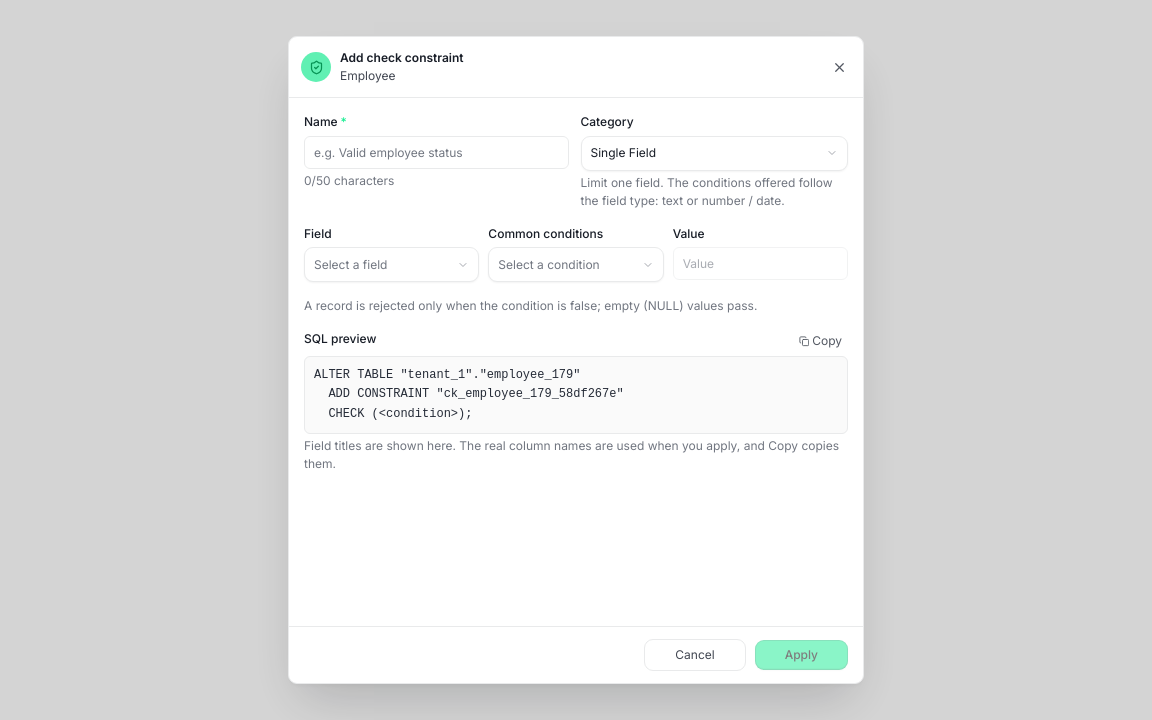
Test case: CheckConstraintFormModal › drops the chosen condition when another field type does not offer it
Click the button "Select a field": (392, 264) top-left (304, 247), bottom-right (479, 282)
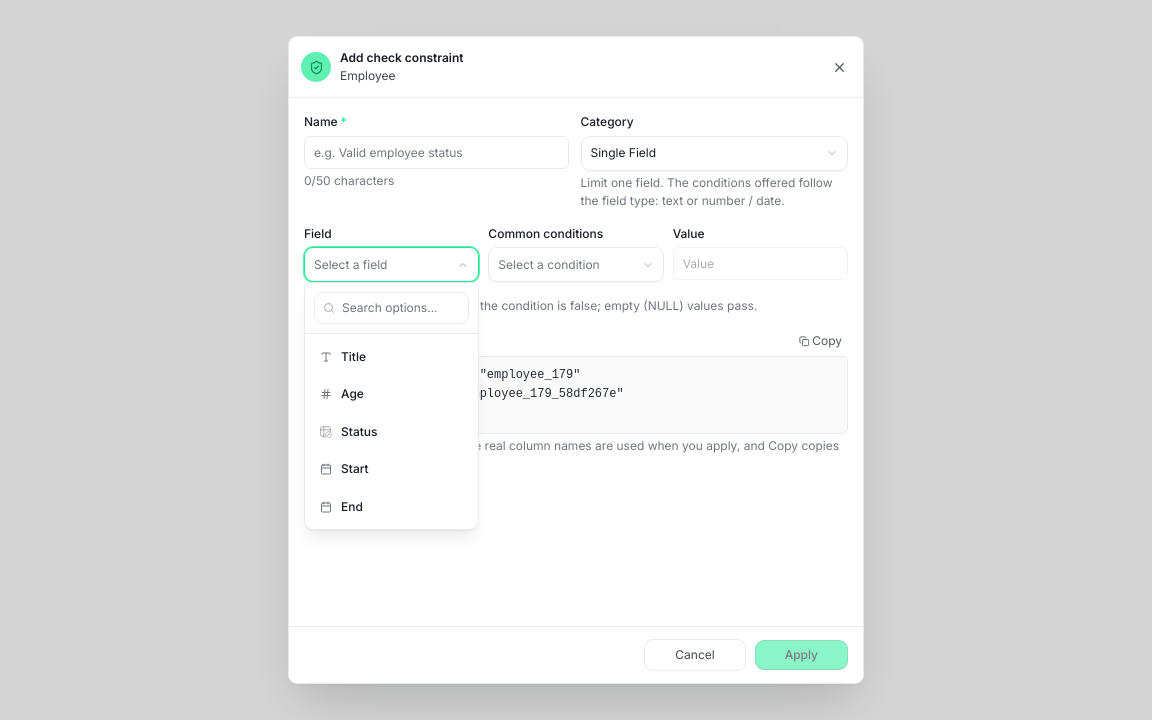
Click the text "Status": (359, 431) top-left (341, 424), bottom-right (378, 438)
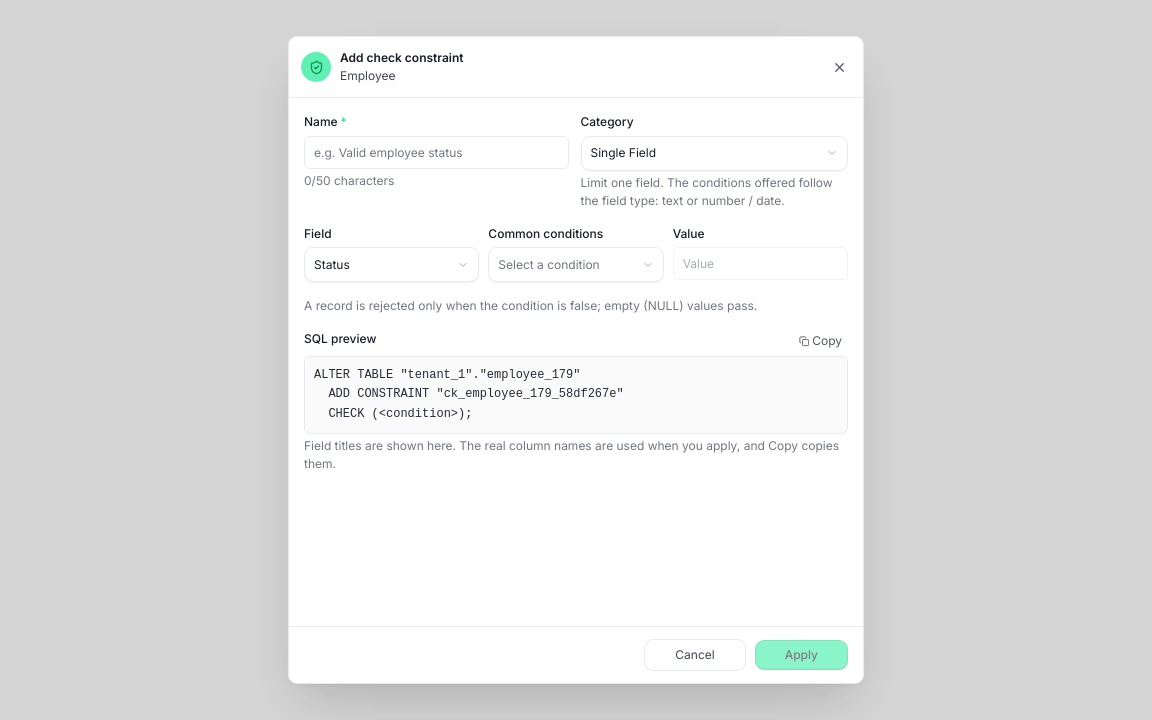
Click the button "Select a condition": (576, 264) top-left (488, 247), bottom-right (664, 282)
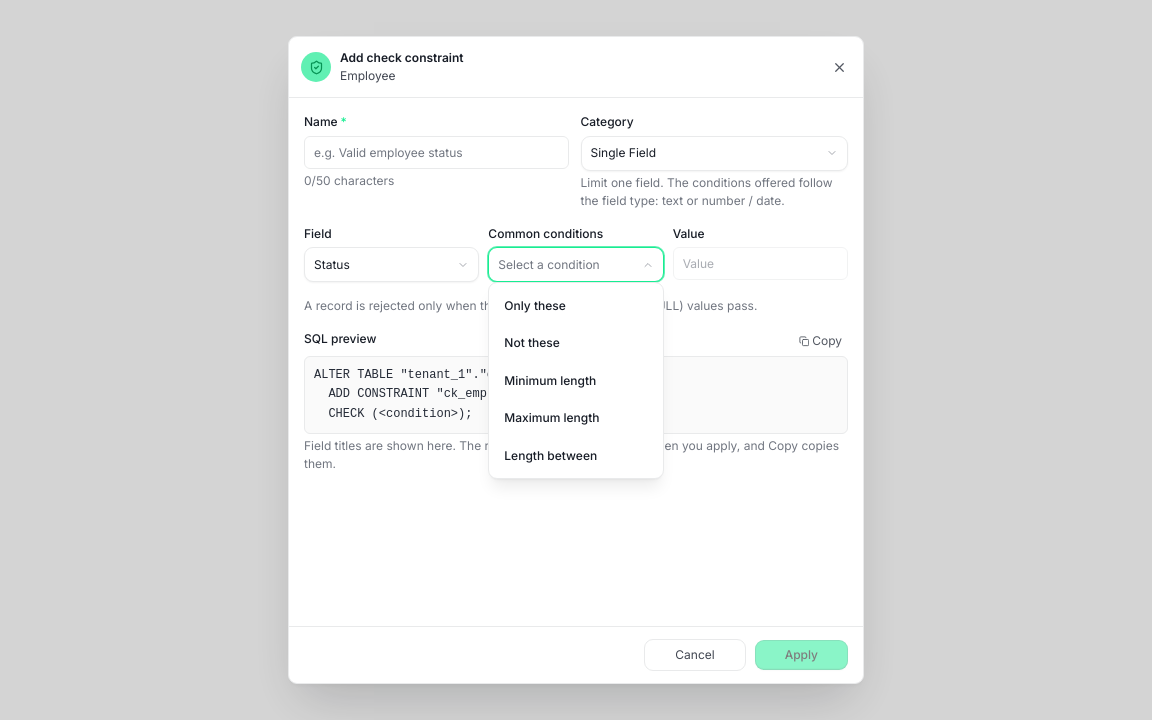
Click the text "Only these": (535, 305) top-left (504, 298), bottom-right (566, 312)
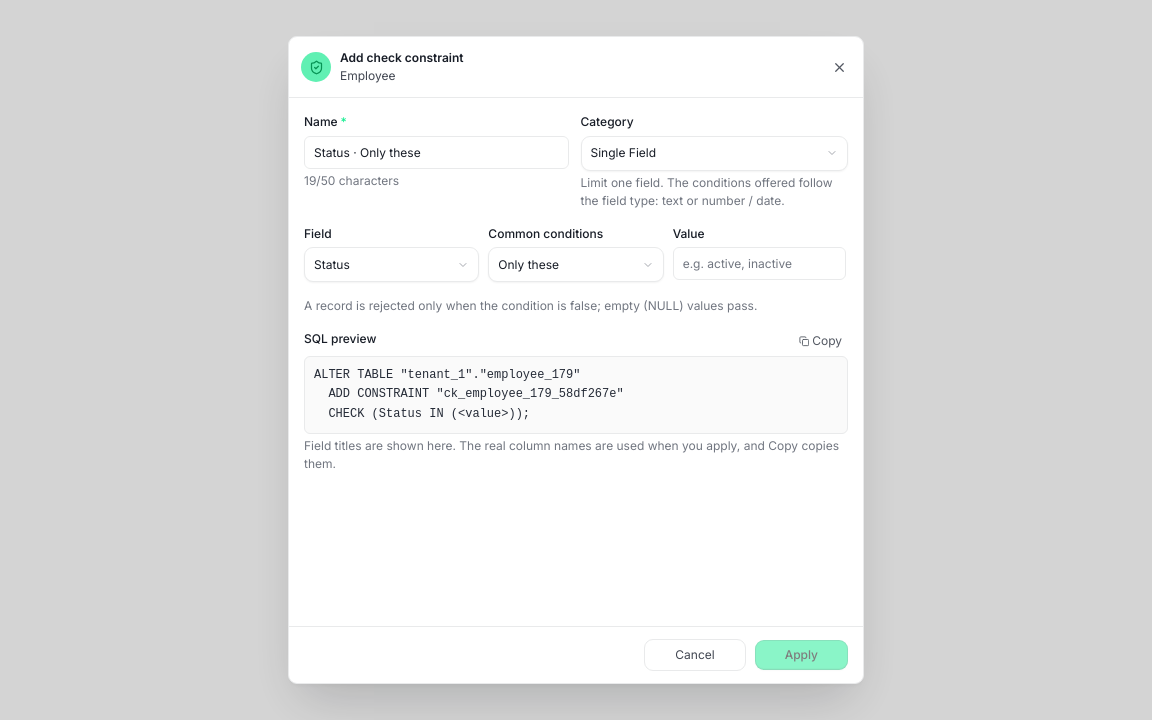
Click the button "Status": (392, 264) top-left (304, 247), bottom-right (479, 282)
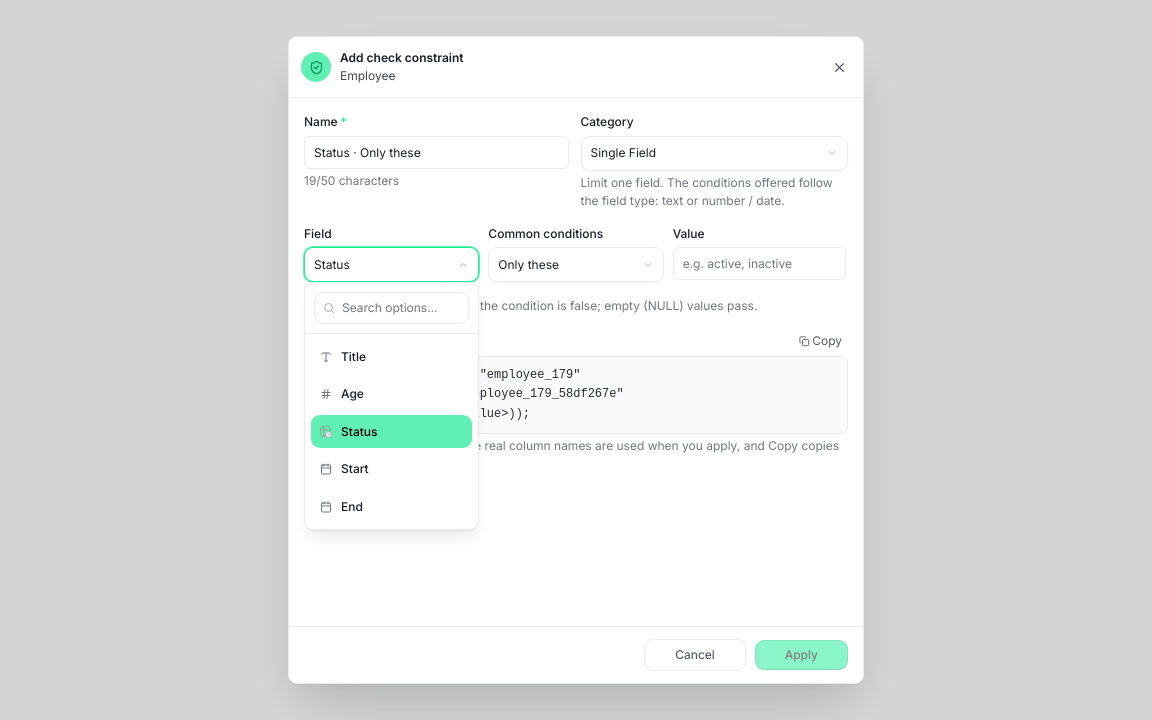
Click the text "Age": (352, 394) top-left (341, 386), bottom-right (364, 401)
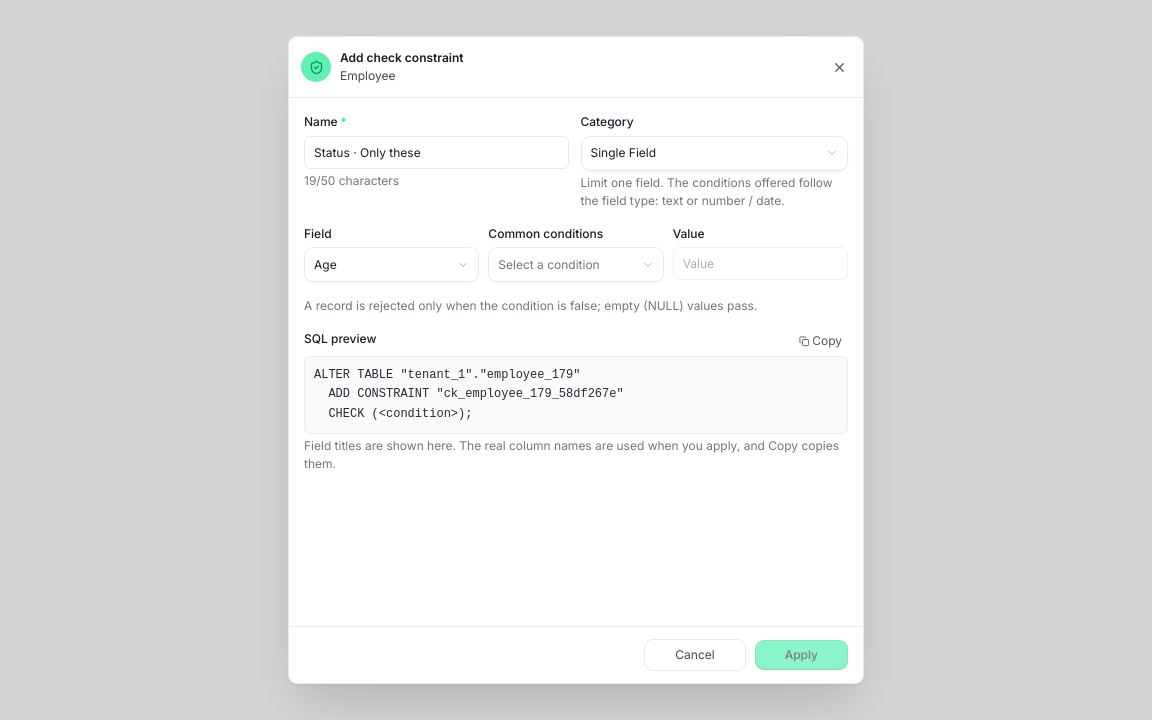
Check: the button "Select a condition" is shown, box top-left (488, 247), bottom-right (664, 282)
